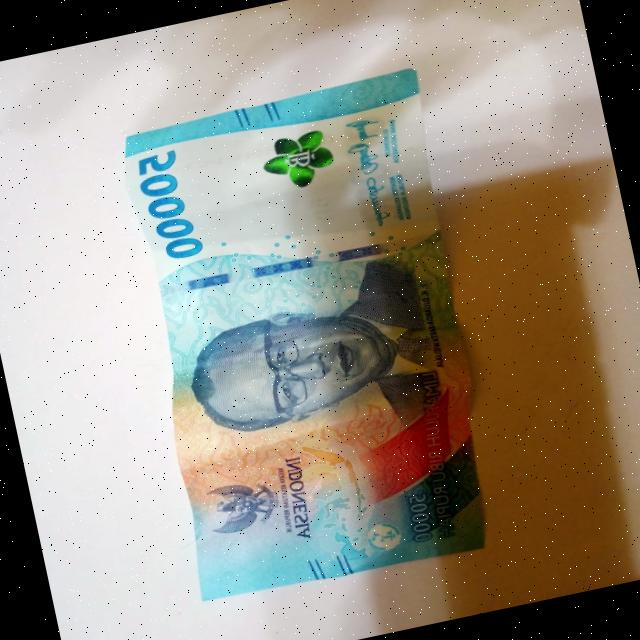50K: (80, 57, 524, 622)
